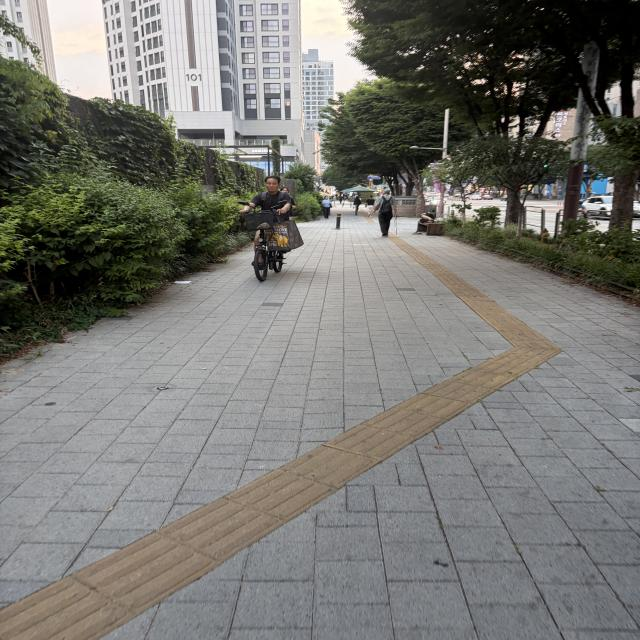bicycle: (245, 169, 317, 290)
